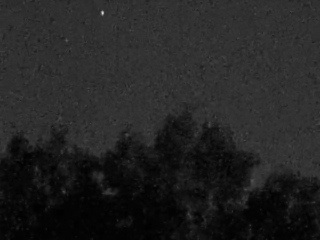Target: (102, 12, 104, 16)
